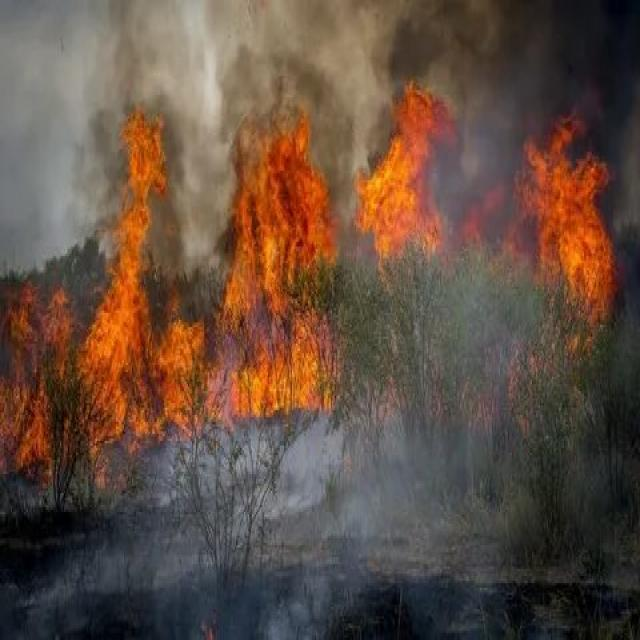Fire: (0, 105, 603, 444)
